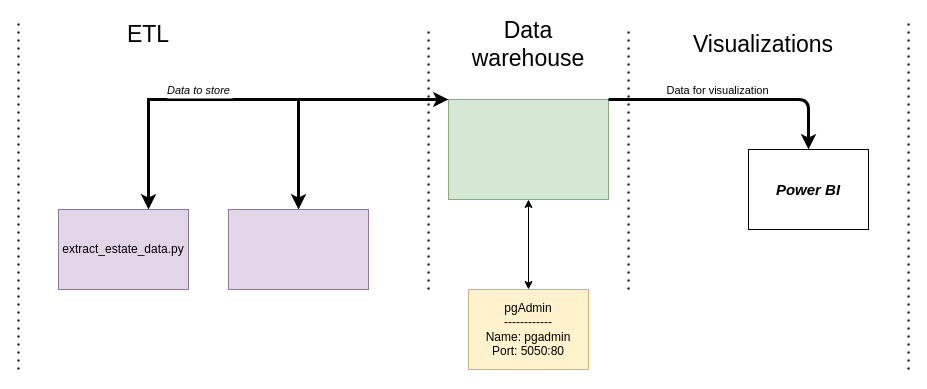
Image size: 927x389. Some labels were removed from this diagram. Each missing label, with the centre of its shape:
"Postgres ------------ warehouse-postgres 5052:5432" belongs at [528,149].
"transform_estate_data.py" belongs at [298,249].
